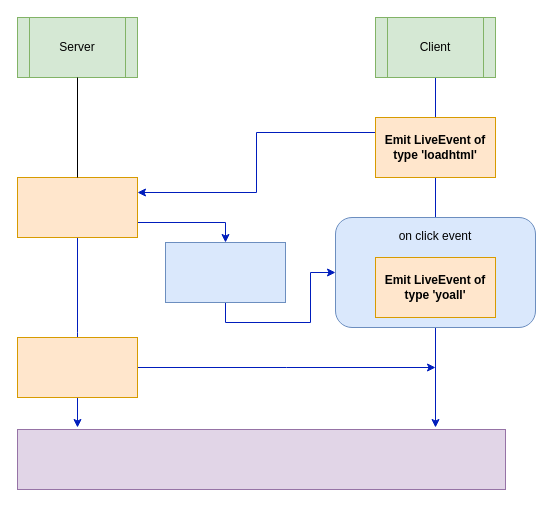
This 553x507 diagram has some shape labels left out. The centre of each missing label's shape, as x and y in pixels:
"Send Blocks" belongs at [77,207].
"Send More Blocks" belongs at [77,367].
"UI" belongs at [225,272].
